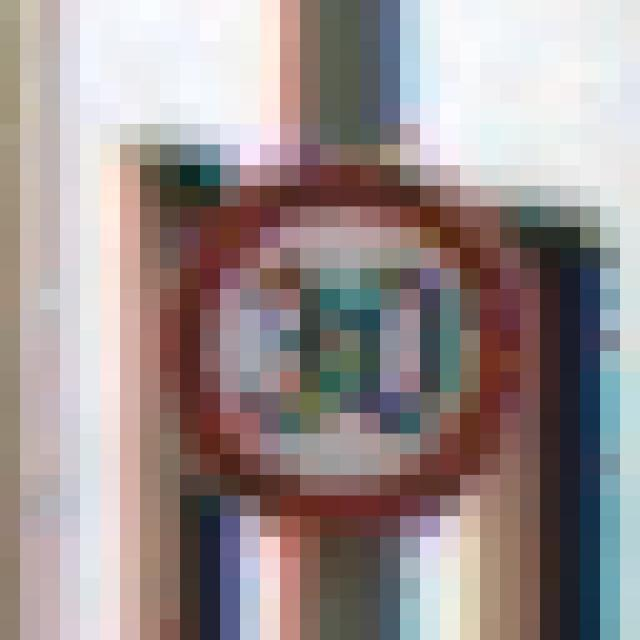Speed Limit -30-: (110, 114, 510, 526)
